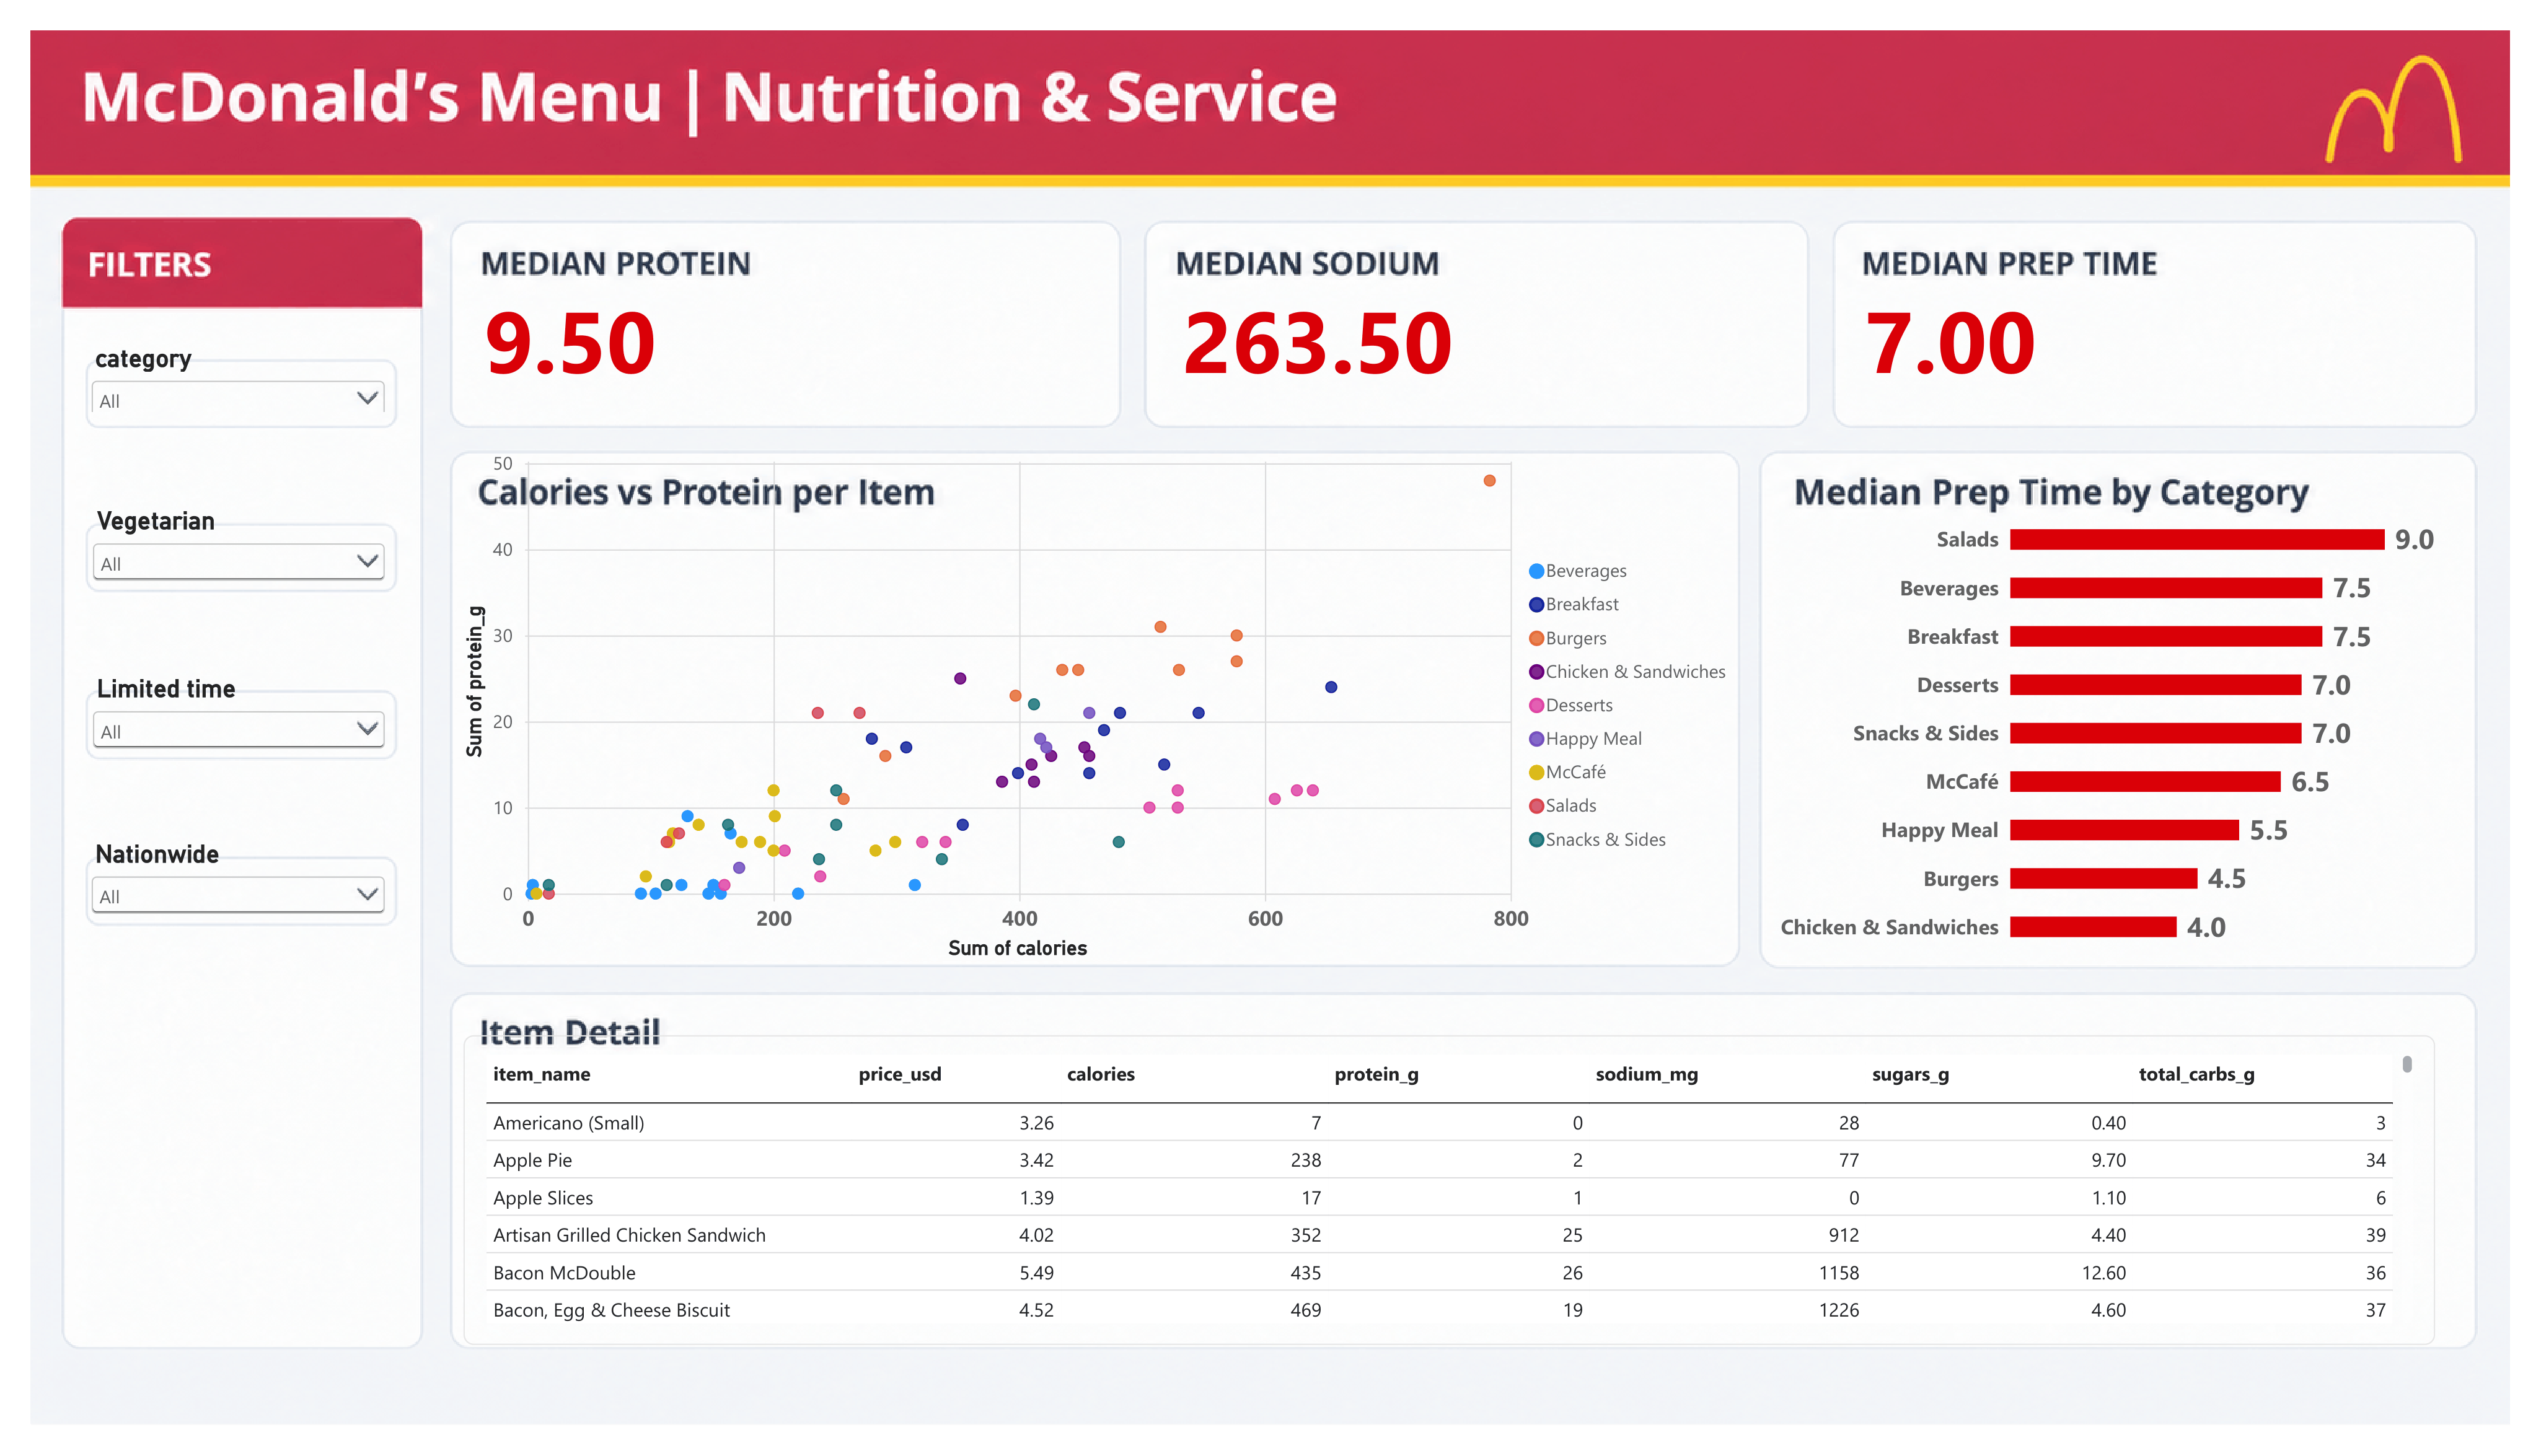

What the dashboard file says about the page in this screenshot:
{"tool":"powerbi","page":{"name":"Nutrition & Service","canvas":[1920,1080],"ordinal":1},"visuals":[{"type":"cardVisual","fields":{"Data":["final_mcdonalds_menu.Median Protein"]},"box":[335.3,150.1,242.7,175.2],"z":0},{"type":"cardVisual","fields":{"Data":["final_mcdonalds_menu.Median Sodium"]},"box":[875.8,150.1,242.7,175.2],"z":1000},{"type":"cardVisual","fields":{"Data":["final_mcdonalds_menu.Median Prep Time"]},"box":[1403.7,150.1,242.7,175.2],"z":2000},{"type":"scatterChart","fields":{"X":["Sum(final_mcdonalds_menu.calories)"],"Y":["Sum(final_mcdonalds_menu.protein_g)"],"Category":["final_mcdonalds_menu.item_name"],"Series":["final_mcdonalds_menu.category"]},"box":[334.3,323.7,988,395.2],"z":3000},{"type":"clusteredBarChart","fields":{"Category":["final_mcdonalds_menu.category"],"Y":["final_mcdonalds_menu.Median Prep Time"]},"box":[1353.7,362.8,507.9,355.3],"z":4000},{"type":"tableEx","fields":{"Values":["final_mcdonalds_menu.item_name","final_mcdonalds_menu.price_usd","final_mcdonalds_menu.calories","final_mcdonalds_menu.protein_g","final_mcdonalds_menu.sodium_mg","final_mcdonalds_menu.sugars_g","final_mcdonalds_menu.total_carbs_g"]},"box":[335.3,778.2,1526.3,240.2],"z":5000},{"type":"slicer","fields":{"Values":["final_mcdonalds_menu.category"]},"box":[41.8,242.4,237.1,52.9],"z":6000},{"type":"slicer","fields":{"Values":["final_mcdonalds_menu.is_vegetarian"]},"box":[42.5,368.3,236.2,61.3],"z":6001},{"type":"slicer","fields":{"Values":["final_mcdonalds_menu.is_limited_time"]},"box":[42.9,497.9,236.2,61.3],"z":6002},{"type":"slicer","fields":{"Values":["final_mcdonalds_menu.is_nationwide"]},"box":[42.1,626.4,236.4,61.4],"z":6003}]}

Visuals, with their boxes on the page's 1920x1080 design canvas (x1, y1, x2, y2). These are canvas units, not pixel positions in the 2541x1456 screenshot, which may show the page scaled, cropped or inside an application window:
cardVisual - final_mcdonalds_menu.Median Protein: box=[335, 150, 578, 325]
cardVisual - final_mcdonalds_menu.Median Sodium: box=[876, 150, 1118, 325]
cardVisual - final_mcdonalds_menu.Median Prep Time: box=[1404, 150, 1646, 325]
scatterChart - Sum(final_mcdonalds_menu.calories) x Sum(final_mcdonalds_menu.protein_g): box=[334, 324, 1322, 719]
clusteredBarChart - final_mcdonalds_menu.category x final_mcdonalds_menu.Median Prep Time: box=[1354, 363, 1862, 718]
tableEx - final_mcdonalds_menu.item_name x final_mcdonalds_menu.price_usd: box=[335, 778, 1862, 1018]
slicer - final_mcdonalds_menu.category: box=[42, 242, 279, 295]
slicer - final_mcdonalds_menu.is_vegetarian: box=[42, 368, 279, 430]
slicer - final_mcdonalds_menu.is_limited_time: box=[43, 498, 279, 559]
slicer - final_mcdonalds_menu.is_nationwide: box=[42, 626, 278, 688]
